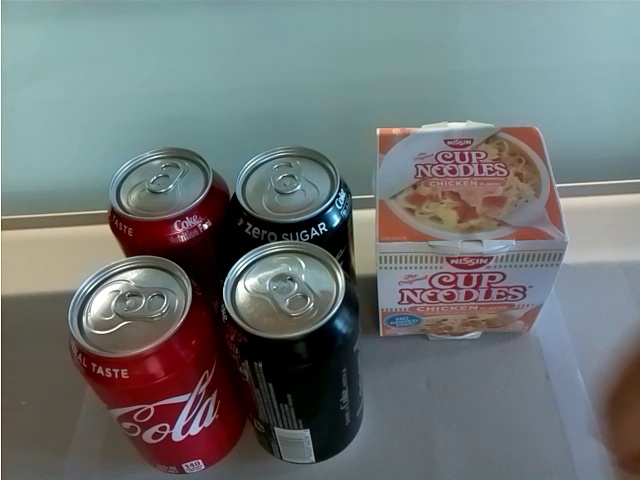cocacola: (67, 251, 243, 480), (106, 147, 231, 263)
cocacola-zero: (219, 242, 364, 469), (234, 146, 355, 295)
noodles: (374, 118, 569, 343)
